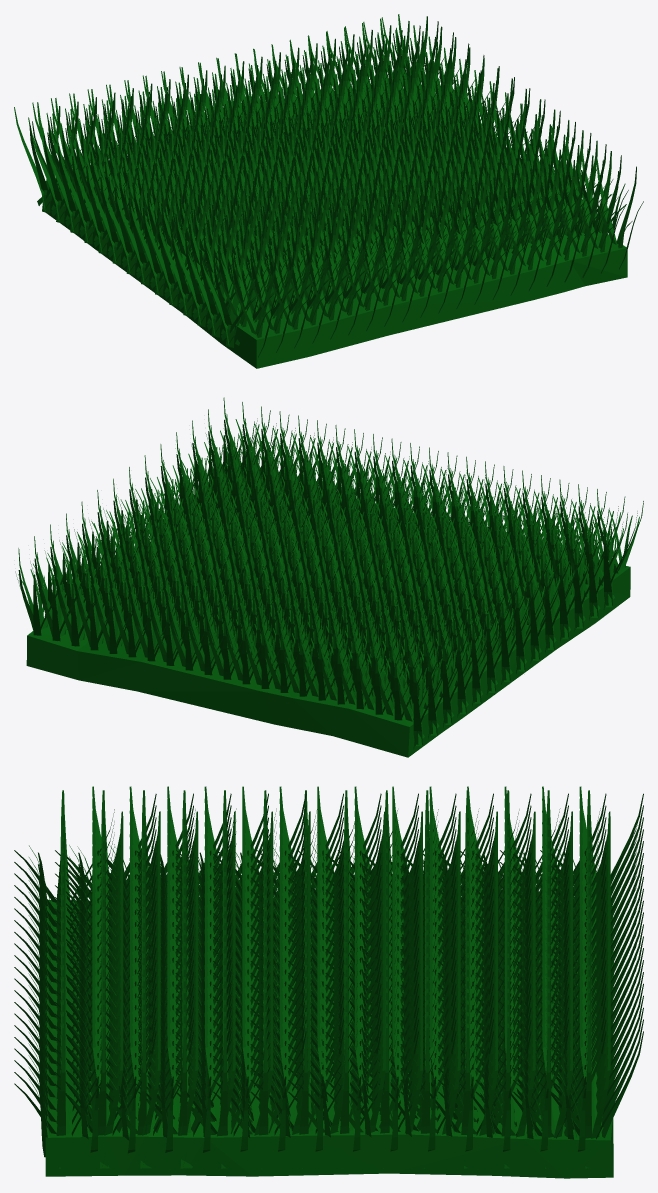
File: grass2.glb
3 views of the same model, one above another, from view 1: azimuth 30°, elevation 25°; view 2: azimuth 150°, elevation 25°; view 3: azimuth 270°, elevation 25° (orthographic). The views are drawn at different scales.
Visible parts, largest first — view 1: 平面.007, 平面.006, 立方体; view 2: 平面.007, 平面.006, 立方体; view 3: 平面.007, 平面.006, 立方体.
Boxes of the visible parts, x1=… form: 平面.007: x1=14, y1=16, x2=626, y2=347; 平面.006: x1=32, y1=14, x2=643, y2=357; 立方体: x1=45, y1=144, x2=627, y2=368; 平面.007: x1=15, y1=418, x2=637, y2=749; 平面.006: x1=18, y1=397, x2=643, y2=721; 立方体: x1=26, y1=493, x2=630, y2=757; 平面.007: x1=65, y1=786, x2=643, y2=1167; 平面.006: x1=14, y1=790, x2=640, y2=1168; 立方体: x1=45, y1=898, x2=613, y2=1178.
Size of the model in its own units: 1.12 by 0.2885 by 1.11.
